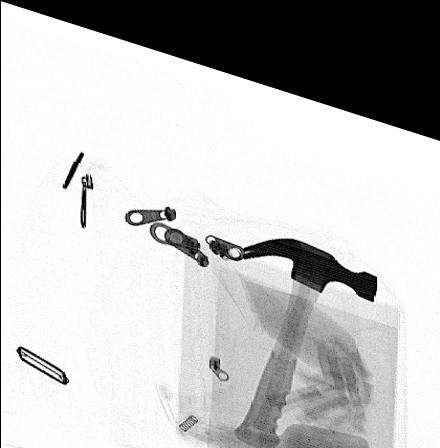Hammer: (232, 218, 377, 432)
